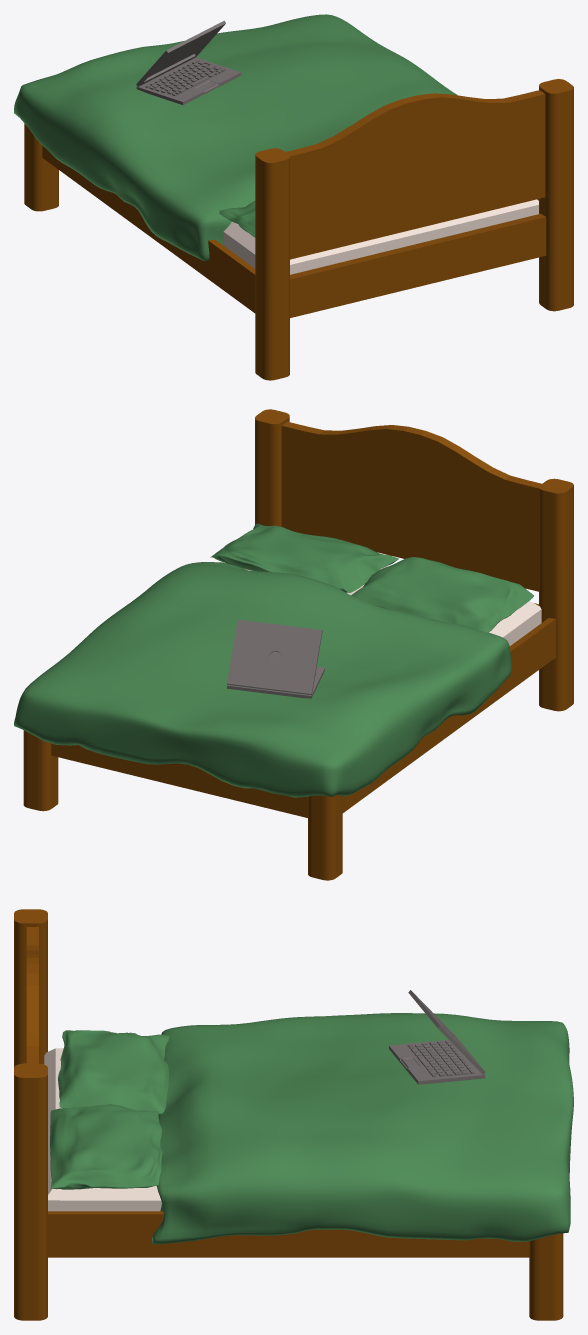
The model's file is bed.glb.
3 renders of one model, top to bottom at view 1: azimuth 30°, elevation 25°; view 2: azimuth 150°, elevation 25°; view 3: azimuth 270°, elevation 25°, orthographic. The views are drawn at different scales.
Parts seen in each view (by area): view 1: Cube.005, Cube.001, Cube, Cube.002, Laptop2, Cube.004; view 2: Cube.005, Cube.001, Cube, Cube.004, Cube.003, Laptop2, Cube.002; view 3: Cube.005, Cube.001, Cube, Cube.003, Cube.004, Cube.002, Laptop2.
Part boxes in pixels (x1,y1,x2,y2): Cube.005: [14, 14, 457, 260]; Cube.001: [24, 79, 573, 380]; Cube: [42, 146, 546, 317]; Cube.002: [223, 199, 538, 274]; Laptop2: [136, 20, 241, 104]; Cube.004: [219, 201, 255, 237]; Cube.005: [14, 562, 511, 797]; Cube.001: [23, 409, 573, 880]; Cube: [51, 603, 555, 817]; Cube.004: [351, 557, 533, 632]; Cube.003: [210, 523, 398, 592]; Laptop2: [227, 619, 324, 698]; Cube.002: [244, 566, 541, 645]; Cube.005: [152, 1013, 573, 1244]; Cube.001: [14, 909, 563, 1320]; Cube: [24, 1063, 529, 1257]; Cube.003: [50, 1104, 162, 1189]; Cube.004: [58, 1030, 169, 1115]; Cube.002: [44, 1048, 161, 1211]; Laptop2: [389, 990, 485, 1084].
Bounding box in the file's own units: 1.51 × 1.06 × 2.02.
